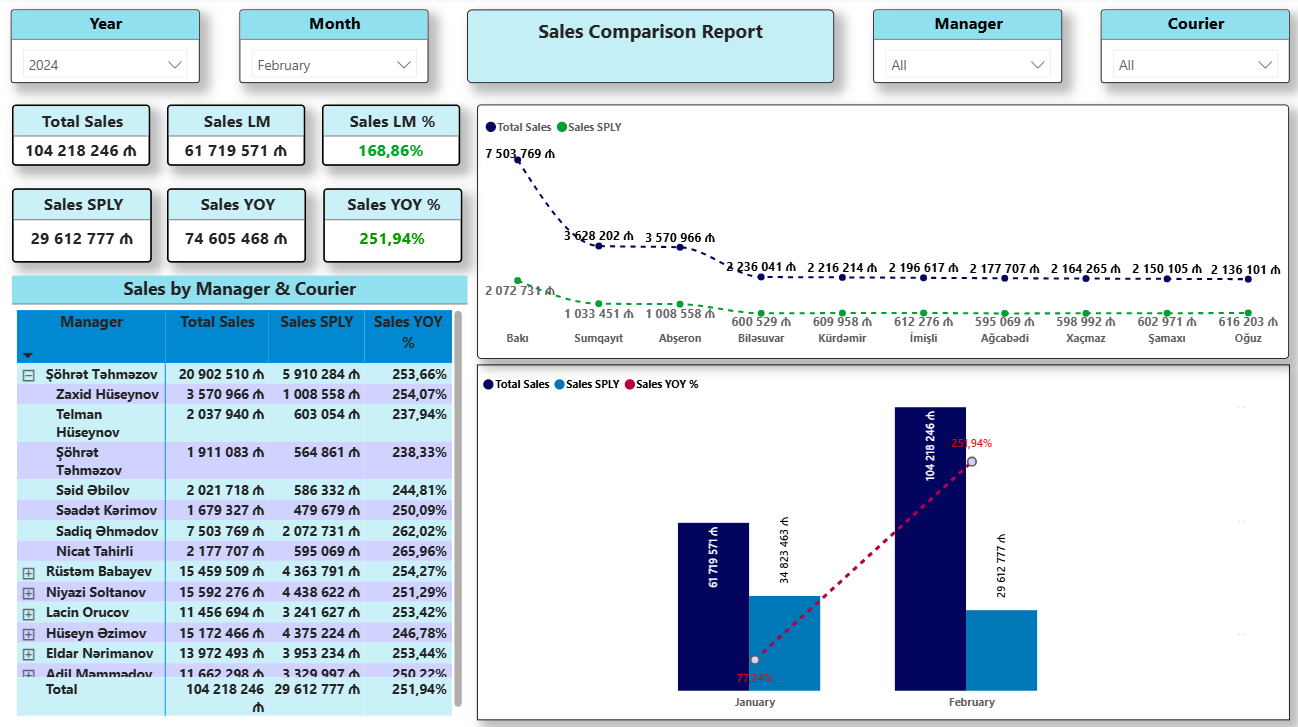

What the dashboard file says about the page in this screenshot:
{"tool":"powerbi","page":{"name":"Satış Müqayisə Hesabatı","canvas":[1280,720],"ordinal":1},"visuals":[{"type":"textbox","title":"üffef","box":[459.8,12.2,359.5,72.1],"z":0},{"type":"slicer","title":"Year","fields":{"Values":["Calendar.Date.Variation.Date Hierarchy.Year"]},"box":[14,11.6,184.9,72.1],"z":1000},{"type":"slicer","title":"Month","fields":{"Values":["Calendar.Date.Variation.Date Hierarchy.Month"]},"box":[236.6,11.6,185,72.1],"z":2000},{"type":"slicer","title":"Manager","fields":{"Values":["Müştəri Bazası.Menecer"]},"box":[857.2,11.6,185,72.1],"z":3000},{"type":"slicer","title":"Courier","fields":{"Values":["Müştəri Bazası.Kuryer"]},"box":[1080,11.6,185,72.1],"z":4000},{"type":"card","title":"Total Sales","fields":{"Values":["Hesablama.Total Satış"]},"box":[14.3,105.7,135,60],"z":5000},{"type":"card","title":"Sales SPLY","fields":{"Values":["Hesablama.Satış SPLY"]},"box":[14.3,187.1,137.1,72.9],"z":6000},{"type":"card","title":"Sales LM","fields":{"Values":["Hesablama.Satış LM"]},"box":[166.2,105.7,135,60],"z":7000},{"type":"card","title":"Sales LM %","fields":{"Values":["Hesablama.Satış LM %"]},"box":[318.1,105.7,135,60],"z":8000},{"type":"card","title":"Sales YOY","fields":{"Values":["Hesablama.Satış YOY"]},"box":[165.7,187.1,135.7,72.9],"z":9000},{"type":"card","title":"Sales YOY %","fields":{"Values":["Hesablama.Satış YOY %"]},"box":[318.6,187.1,135.7,72.9],"z":10000},{"type":"pivotTable","title":"Sales by Manager & Courier","fields":{"Rows":["Müştəri Bazası.Menecer","Müştəri Bazası.Kuryer"],"Values":["Hesablama.Total Satış","Hesablama.Satış SPLY","Hesablama.Satış YOY %"]},"box":[14.3,272.9,445.7,434.3],"z":11000},{"type":"lineChart","fields":{"Category":["Müştəri Bazası.Şəhər"],"Y":["Hesablama.Total Satış","Hesablama.Satış SPLY"]},"box":[470,105.7,794.3,248.6],"z":12000},{"type":"lineClusteredColumnComboChart","fields":{"Category":["Calendar.Date.Variation.Date Hierarchy.Month"],"Y":["Hesablama.Total Satış","Hesablama.Satış SPLY"],"Y2":["Hesablama.Satış YOY %"]},"box":[470,359.6,794.9,348],"z":13000}]}

Visuals, with their boxes in screenshot pixels (x1, y1, x2, y2), scaled from the page's 1280x720 canvas onto the 1298x727 screenshot:
"üffef" textbox: <box>466,12,831,85</box>
"Year" slicer: <box>14,12,202,85</box>
"Month" slicer: <box>240,12,428,85</box>
"Manager" slicer: <box>869,12,1057,85</box>
"Courier" slicer: <box>1095,12,1283,85</box>
"Total Sales" card: <box>15,107,151,167</box>
"Sales SPLY" card: <box>15,189,154,263</box>
"Sales LM" card: <box>169,107,305,167</box>
"Sales LM %" card: <box>323,107,459,167</box>
"Sales YOY" card: <box>168,189,306,263</box>
"Sales YOY %" card: <box>323,189,461,263</box>
"Sales by Manager & Courier" pivotTable: <box>15,276,466,714</box>
lineChart - Müştəri Bazası.Şəhər x Hesablama.Total Satış: <box>477,107,1282,358</box>
lineClusteredColumnComboChart - Calendar.Date.Variation.Date Hierarchy.Month x Hesablama.Total Satış: <box>477,363,1283,714</box>
